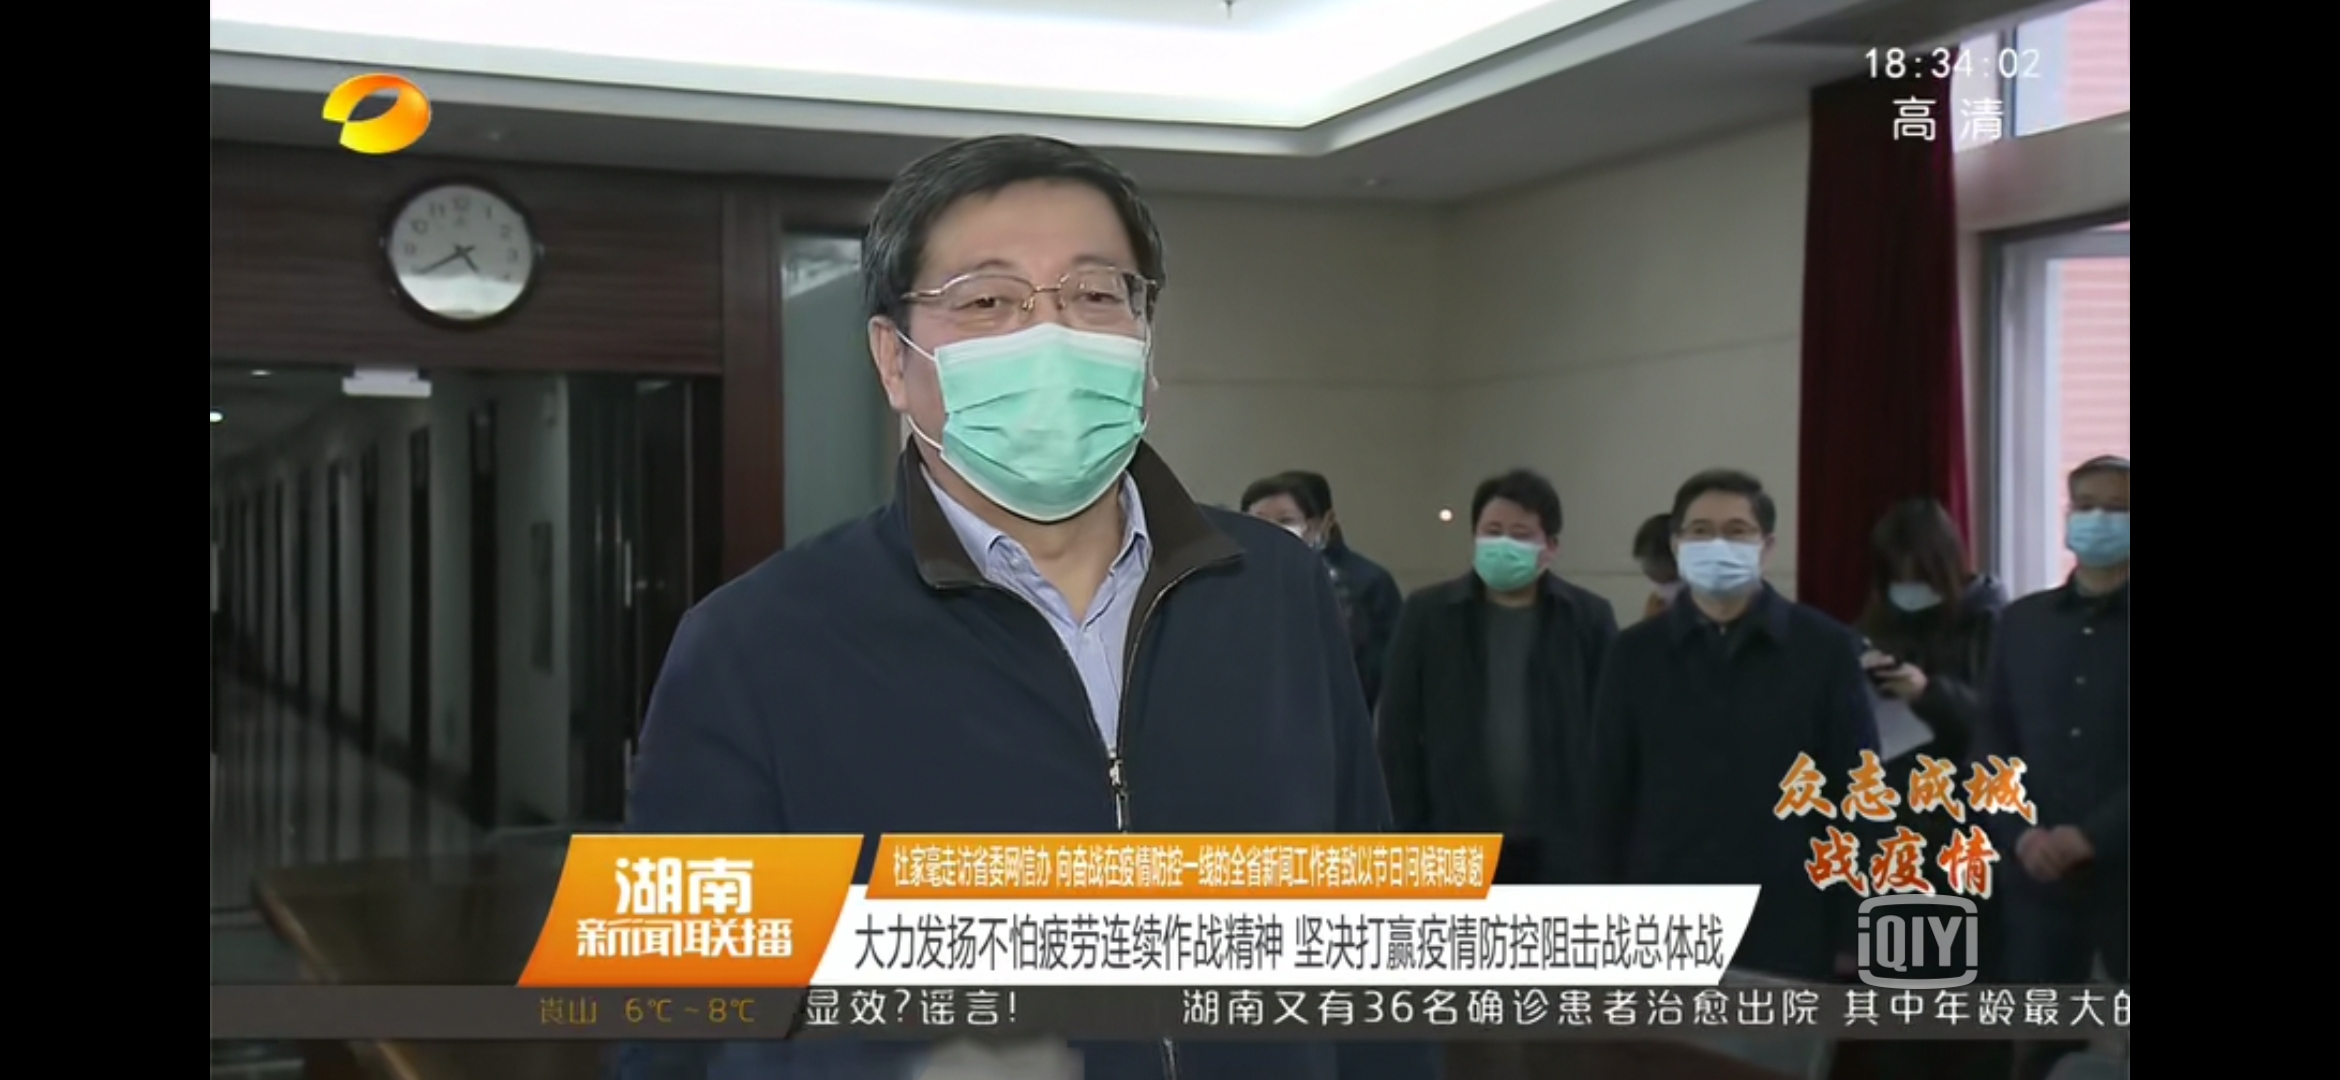correctlyWear: (869, 260, 1155, 524), (1671, 510, 1774, 609), (1468, 513, 1560, 604), (2062, 485, 2137, 583), (1885, 567, 1943, 622), (1248, 507, 1304, 544)
